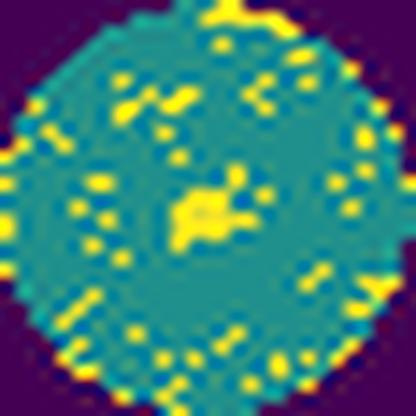Center: (163, 164, 259, 257)
